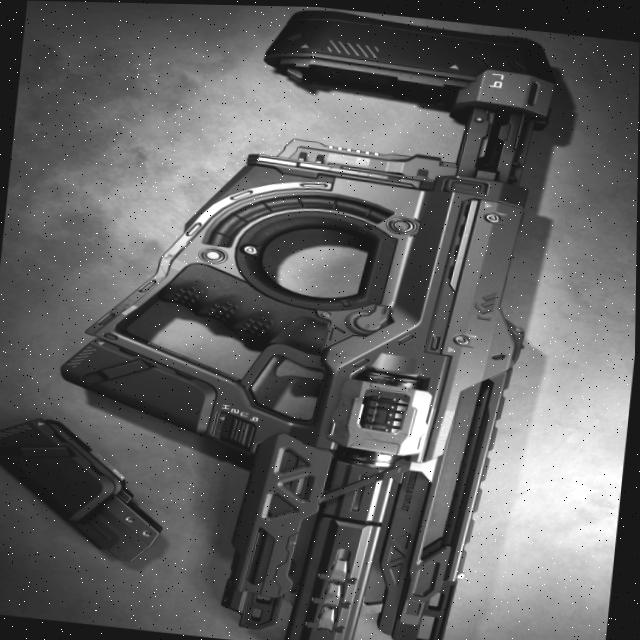firearm: (33, 1, 561, 640)
